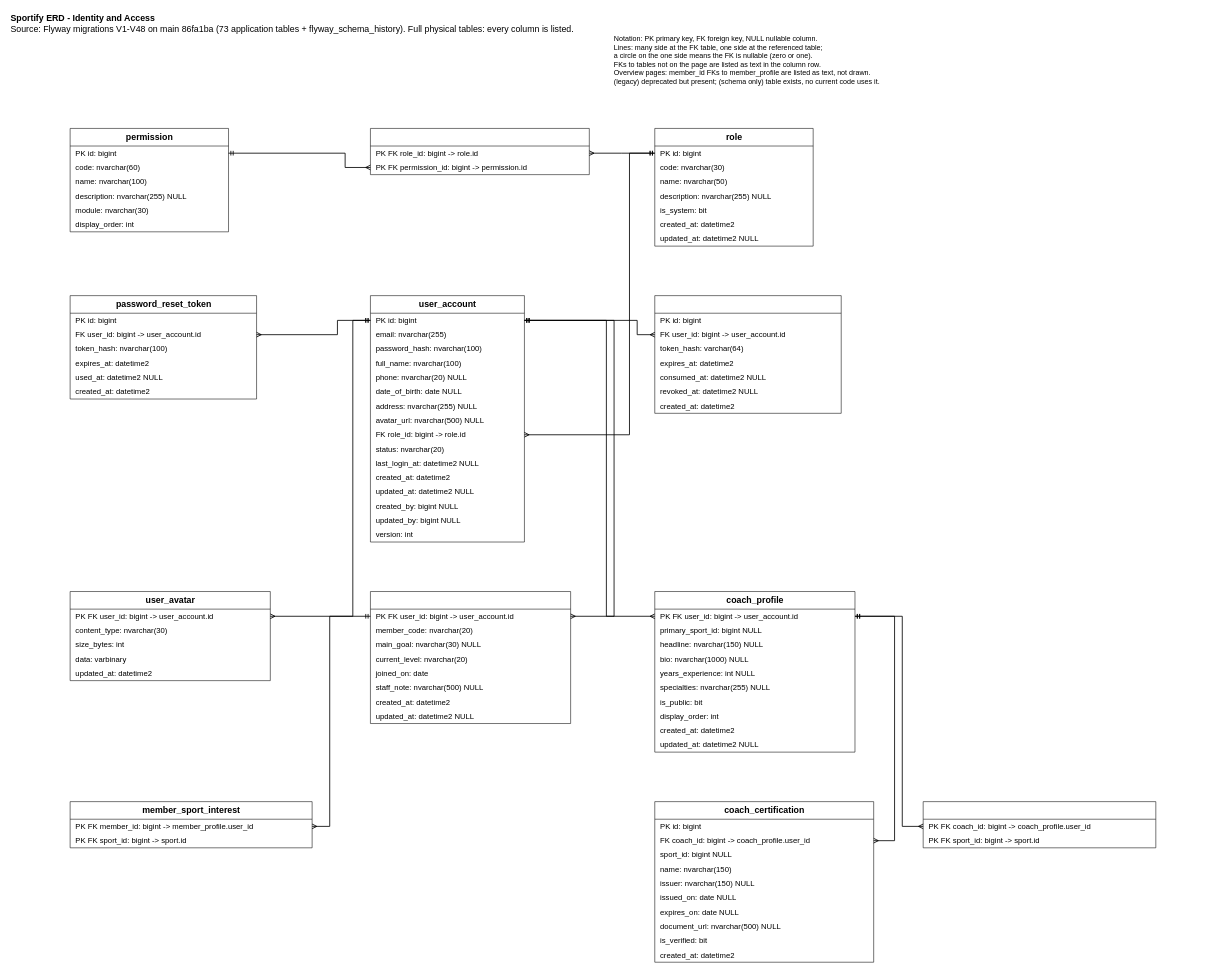
Some shapes in this 1225 by 972 pixel diagram are drawn without their labels. Each missing label, with the box of its shape:
coach_sport: (923, 801, 1156, 848)
member_profile: (370, 591, 571, 724)
role_permission: (370, 128, 589, 175)
user_refresh_token: (654, 295, 841, 413)
